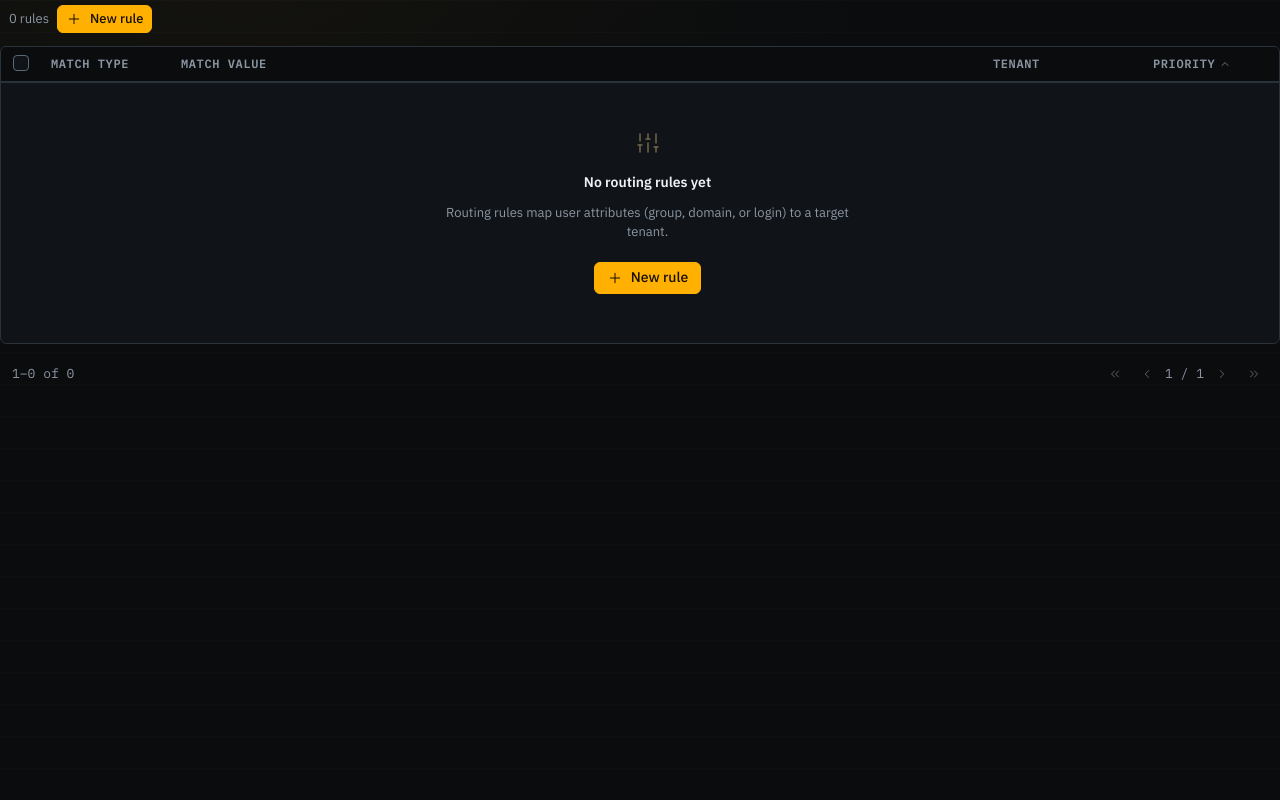
Scenario: TenantRoutingPage › New rule button opens TenantMatchEditor in create mode
The width and height of the screenshot is (1280, 800).
Step 1. Click the button "New rule" next to "0 rules" → (105, 19), box 57,5 -> 152,33
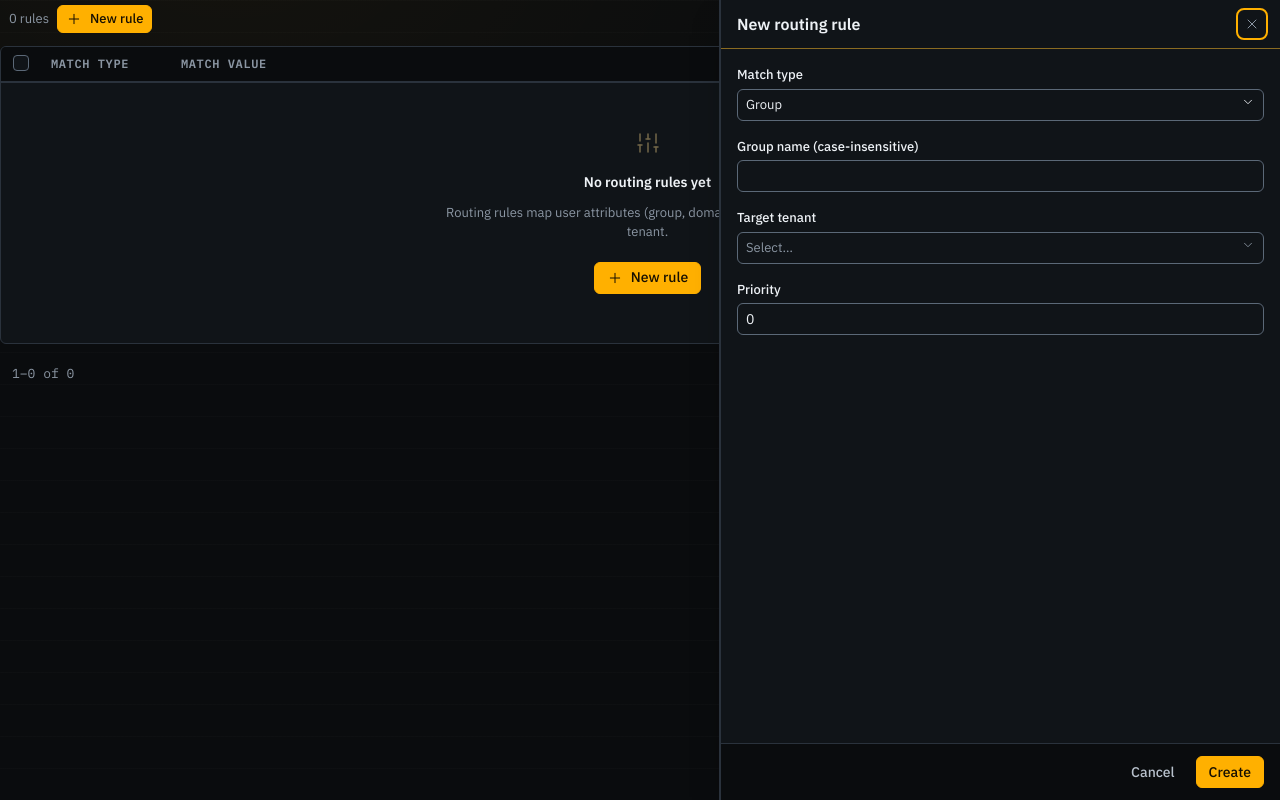
Expected: the button "Create" is shown, 1196,756 -> 1264,788
